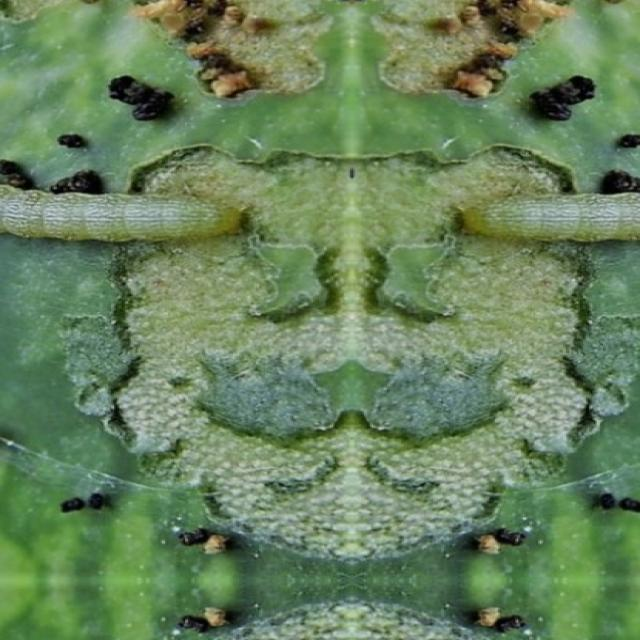armyworm: (0, 191, 265, 246), (445, 193, 640, 248)
